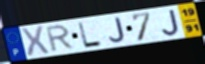7: (131, 11, 154, 42)
J: (161, 9, 181, 37), (108, 16, 127, 44)
L: (76, 21, 104, 49)
R: (45, 23, 76, 54)
X: (20, 25, 52, 58)
